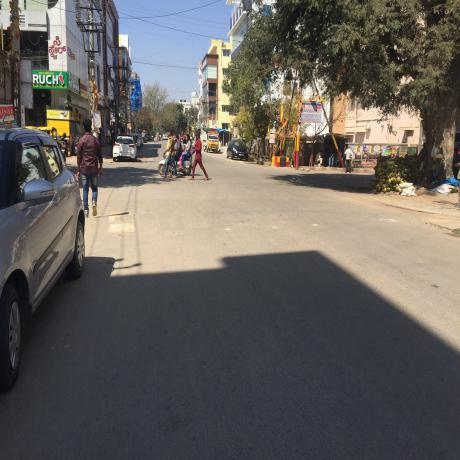Speed Bump: (88, 211, 425, 233)
